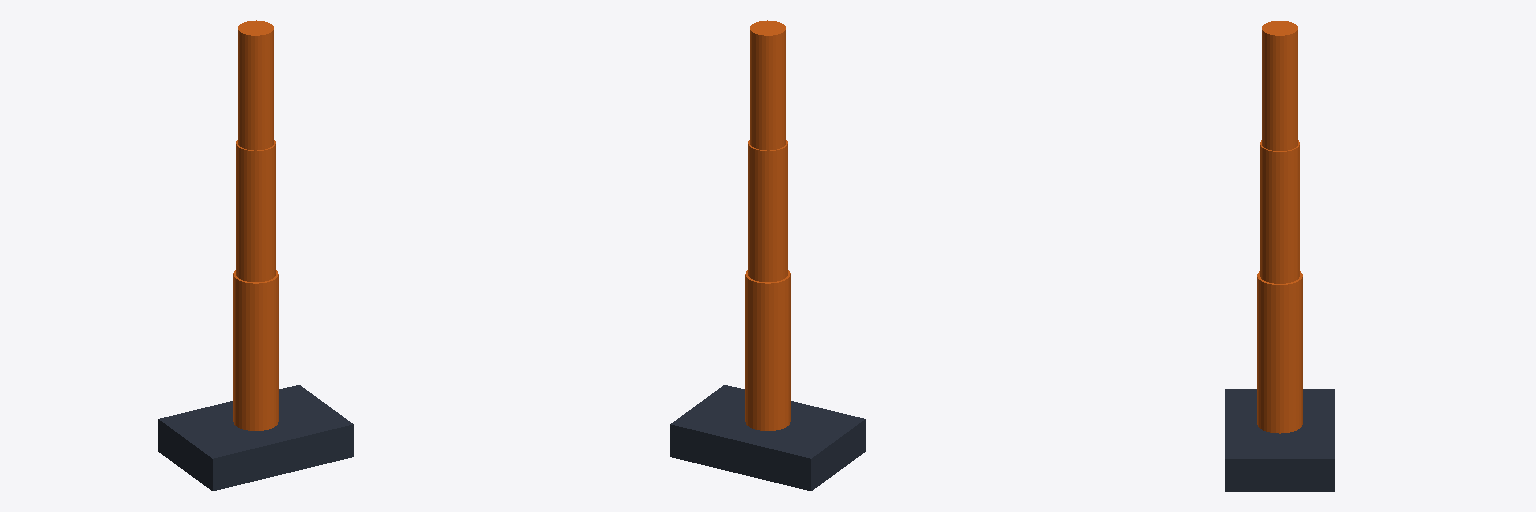
The robot description file, URDF, robot "mab_three_axis_rehab_robot":
<?xml version="1.0" ?>
<!-- =================================================================================== -->
<!-- |    This document was autogenerated by xacro from mab_ros2_control/urdf/mab_three_axis.urdf.xacro | -->
<!-- |    EDITING THIS FILE BY HAND IS NOT RECOMMENDED                                 | -->
<!-- =================================================================================== -->
<robot name="mab_three_axis_rehab_robot">
  <material name="carbon">
    <color rgba="0.22 0.25 0.30 1.0"/>
  </material>
  <material name="signal">
    <color rgba="0.85 0.43 0.14 1.0"/>
  </material>
  <link name="base_link">
    <visual>
      <geometry>
        <box size="0.18 0.12 0.04"/>
      </geometry>
      <material name="carbon"/>
    </visual>
    <collision>
      <geometry>
        <box size="0.18 0.12 0.04"/>
      </geometry>
    </collision>
    <inertial>
      <mass value="1.0"/>
      <origin xyz="0 0 0"/>
      <inertia ixx="0.01" ixy="0.0" ixz="0.0" iyy="0.01" iyz="0.0" izz="0.01"/>
    </inertial>
  </link>
  <link name="link_1">
    <visual>
      <geometry>
        <cylinder length="0.18" radius="0.025"/>
      </geometry>
      <origin rpy="0 0 0" xyz="0 0 0.09"/>
      <material name="signal"/>
    </visual>
    <collision>
      <geometry>
        <cylinder length="0.18" radius="0.025"/>
      </geometry>
      <origin rpy="0 0 0" xyz="0 0 0.09"/>
    </collision>
    <inertial>
      <mass value="0.4"/>
      <origin xyz="0 0 0.09"/>
      <inertia ixx="0.002" ixy="0.0" ixz="0.0" iyy="0.002" iyz="0.0" izz="0.001"/>
    </inertial>
  </link>
  <link name="link_2">
    <visual>
      <geometry>
        <cylinder length="0.16" radius="0.022"/>
      </geometry>
      <origin rpy="0 0 0" xyz="0 0 0.08"/>
      <material name="signal"/>
    </visual>
    <collision>
      <geometry>
        <cylinder length="0.16" radius="0.022"/>
      </geometry>
      <origin rpy="0 0 0" xyz="0 0 0.08"/>
    </collision>
    <inertial>
      <mass value="0.3"/>
      <origin xyz="0 0 0.08"/>
      <inertia ixx="0.0016" ixy="0.0" ixz="0.0" iyy="0.0016" iyz="0.0" izz="0.0008"/>
    </inertial>
  </link>
  <link name="link_3">
    <visual>
      <geometry>
        <cylinder length="0.14" radius="0.02"/>
      </geometry>
      <origin rpy="0 0 0" xyz="0 0 0.07"/>
      <material name="signal"/>
    </visual>
    <collision>
      <geometry>
        <cylinder length="0.14" radius="0.02"/>
      </geometry>
      <origin rpy="0 0 0" xyz="0 0 0.07"/>
    </collision>
    <inertial>
      <mass value="0.25"/>
      <origin xyz="0 0 0.07"/>
      <inertia ixx="0.0012" ixy="0.0" ixz="0.0" iyy="0.0012" iyz="0.0" izz="0.0006"/>
    </inertial>
  </link>
  <joint name="joint_1" type="revolute">
    <parent link="base_link"/>
    <child link="link_1"/>
    <origin rpy="0 0 0" xyz="0 0 0.02"/>
    <axis xyz="0 0 1"/>
    <limit effort="40.0" lower="-6.283" upper="6.283" velocity="20.0"/>
  </joint>
  <joint name="joint_2" type="revolute">
    <parent link="link_1"/>
    <child link="link_2"/>
    <origin rpy="0 0 0" xyz="0 0 0.18"/>
    <axis xyz="0 1 0"/>
    <limit effort="40.0" lower="-6.283" upper="6.283" velocity="20.0"/>
  </joint>
  <joint name="joint_3" type="revolute">
    <parent link="link_2"/>
    <child link="link_3"/>
    <origin rpy="0 0 0" xyz="0 0 0.16"/>
    <axis xyz="0 1 0"/>
    <limit effort="40.0" lower="-6.283" upper="6.283" velocity="20.0"/>
  </joint>
  <ros2_control name="mab_hardware" type="system">
    <hardware>
      <plugin>mab_ros2_control/MABSystemHardware</plugin>
      <param name="bus">SPI</param>
      <param name="data_rate">5M</param>
      <param name="use_pds">true</param>
      <param name="use_regular_can_frames">false</param>
      <param name="pds_id">100</param>
      <param name="power_stage_socket">2</param>
      <param name="fast_mode">false</param>
      <param name="auto_enable_power_stage">true</param>
      <param name="disable_power_stage_on_deactivate">false</param>
      <param name="zero_on_activate">false</param>
      <param name="allow_no_connected_drives">true</param>
      <param name="save_md_configuration_to_flash">false</param>
      <param name="hold_position_on_activate_ms">3000</param>
      <param name="maintenance_reload_enabled">true</param>
      <param name="maintenance_restore_controller">previous</param>
      <param name="maintenance_service_timeout_ms">3000</param>
      <param name="md_torque_bandwidth_hz">1000.0</param>
      <param name="md_can_watchdog_ms">nan</param>
      <param name="md_limit_max_torque">40.0</param>
      <param name="md_limit_max_velocity">20.0</param>
      <param name="md_limit_max_acceleration">60.0</param>
      <param name="md_limit_max_deceleration">60.0</param>
      <param name="md_limit_position_min">-100</param>
      <param name="md_limit_position_max">100</param>
      <param name="md_profile_velocity">12.0</param>
      <param name="md_profile_acceleration">30.0</param>
      <param name="md_profile_deceleration">30.0</param>
      <param name="md_profile_quick_stop_deceleration">50.0</param>
      <param name="md_position_pid_kp">10.5</param>
      <param name="md_position_pid_ki">1.5</param>
      <param name="md_position_pid_kd">0.0</param>
      <param name="md_position_pid_windup">1.0</param>
      <param name="md_velocity_pid_kp">0.1</param>
      <param name="md_velocity_pid_ki">0.0005</param>
      <param name="md_velocity_pid_kd">0.0</param>
      <param name="md_velocity_pid_windup">0.25</param>
      <param name="md_impedance_kp">0.75</param>
      <param name="md_impedance_kd">0.02</param>
    </hardware>
    <joint name="joint_1">
      <!-- Joint 1 uses MD0037 with an MA-p-45-36_KV80 motor and an external 38:1 reduction. -->
      <param name="can_id">37</param>
      <param name="motor_name">MA-p-45-36_KV80</param>
      <param name="gear_ratio">0.02631578947368421</param>
      <param name="pole_pairs">14</param>
      <param name="kv">80</param>
      <param name="torque_constant">0.11</param>
      <param name="max_current">15.0</param>
      <param name="torque_bandwidth_hz">1000.0</param>
      <param name="friction">0.0</param>
      <param name="stiction">0.0</param>
      <param name="motor_calibration_mode">0</param>
      <param name="shutdown_temp">80.0</param>
      <param name="limit_max_torque">40.0</param>
      <param name="limit_max_velocity">20.0</param>
      <param name="limit_position_min">-100</param>
      <param name="limit_position_max">100</param>
      <param name="limit_max_acceleration">60.0</param>
      <param name="limit_max_deceleration">60.0</param>
      <param name="profile_velocity">12.0</param>
      <param name="profile_acceleration">30.0</param>
      <param name="profile_deceleration">30.0</param>
      <param name="profile_quick_stop_deceleration">50.0</param>
      <param name="output_encoder">0</param>
      <param name="output_encoder_default_baud">0</param>
      <param name="output_encoder_mode">0</param>
      <param name="output_encoder_calibration_mode">0</param>
      <param name="position_pid_kp">10.5</param>
      <param name="position_pid_ki">1.5</param>
      <param name="position_pid_kd">0.0</param>
      <param name="position_pid_windup">1.0</param>
      <param name="velocity_pid_kp">0.1</param>
      <param name="velocity_pid_ki">0.0005</param>
      <param name="velocity_pid_kd">0.0</param>
      <param name="velocity_pid_windup">0.25</param>
      <param name="impedance_kp">0.5</param>
      <param name="impedance_kd">0.3</param>
      <param name="user_gpio_configuration">0</param>
      <param name="reverse_direction">0</param>
      <param name="shunt_resistance">0.004</param>
      <command_interface name="position"/>
      <command_interface name="velocity"/>
      <command_interface name="effort"/>
      <state_interface name="position"/>
      <state_interface name="velocity"/>
      <state_interface name="effort"/>
      <state_interface name="voltage"/>

    </joint>
    <joint name="joint_2">
      <!-- Joint 2 uses MD0939 with an MA-p-40_10_K170 motor and an external 10:1 reduction. -->
      <param name="can_id">940</param>
      <param name="motor_name">MA-p-40_10_K170</param>
      <param name="gear_ratio">0.1</param>
      <param name="pole_pairs">14</param>
      <param name="kv">170</param>
      <param name="torque_constant">0.056</param>
      <param name="max_current">15.0</param>
      <param name="torque_bandwidth_hz">1000.0</param>
      <param name="friction">0.0</param>
      <param name="stiction">0.0</param>
      <param name="motor_calibration_mode">0</param>
      <param name="shutdown_temp">80.0</param>
      <param name="limit_max_torque">40.0</param>
      <param name="limit_max_velocity">20.0</param>
      <param name="limit_position_min">-100</param>
      <param name="limit_position_max">100</param>
      <param name="limit_max_acceleration">60.0</param>
      <param name="limit_max_deceleration">60.0</param>
      <param name="profile_velocity">12.0</param>
      <param name="profile_acceleration">30.0</param>
      <param name="profile_deceleration">30.0</param>
      <param name="profile_quick_stop_deceleration">50.0</param>
      <param name="output_encoder">0</param>
      <param name="output_encoder_default_baud">0</param>
      <param name="output_encoder_mode">0</param>
      <param name="output_encoder_calibration_mode">0</param>
      <param name="position_pid_kp">3.5</param>
      <param name="position_pid_ki">0.5</param>
      <param name="position_pid_kd">0.0</param>
      <param name="position_pid_windup">1.0</param>
      <param name="velocity_pid_kp">0.6</param>
      <param name="velocity_pid_ki">0.0005</param>
      <param name="velocity_pid_kd">0.0</param>
      <param name="velocity_pid_windup">0.25</param>
      <param name="impedance_kp">0.0</param>
      <param name="impedance_kd">0.0</param>
      <param name="user_gpio_configuration">0</param>
      <param name="reverse_direction">0</param>
      <param name="shunt_resistance">0.004</param>
      <command_interface name="position"/>
      <command_interface name="velocity"/>
      <command_interface name="effort"/>
      <state_interface name="position"/>
      <state_interface name="velocity"/>
      <state_interface name="effort"/>
      <state_interface name="voltage"/>
    </joint>
    <joint name="joint_3">
      <!-- Joint 3 uses MD0941 with an MA-p-40_10_K170 motor and an external 10:1 reduction. -->
      <param name="can_id">941</param>
      <param name="motor_name">MA-p-40_10_K170</param>
      <param name="gear_ratio">0.1</param>
      <param name="pole_pairs">14</param>
      <param name="kv">170</param>
      <param name="torque_constant">0.056</param>
      <param name="max_current">15.0</param>
      <param name="torque_bandwidth_hz">1000.0</param>
      <param name="friction">0.0</param>
      <param name="stiction">0.0</param>
      <param name="motor_calibration_mode">0</param>
      <param name="shutdown_temp">80.0</param>
      <param name="limit_max_torque">40.0</param>
      <param name="limit_max_velocity">20.0</param>
      <param name="limit_position_min">-600</param>
      <param name="limit_position_max">600</param>
      <param name="limit_max_acceleration">60.0</param>
      <param name="limit_max_deceleration">60.0</param>
      <param name="profile_velocity">12.0</param>
      <param name="profile_acceleration">30.0</param>
      <param name="profile_deceleration">30.0</param>
      <param name="profile_quick_stop_deceleration">50.0</param>
      <param name="output_encoder">0</param>
      <param name="output_encoder_default_baud">0</param>
      <param name="output_encoder_mode">0</param>
      <param name="output_encoder_calibration_mode">0</param>
      <param name="position_pid_kp">3.5</param>
      <param name="position_pid_ki">0.5</param>
      <param name="position_pid_kd">0.0</param>
      <param name="position_pid_windup">1.0</param>
      <param name="velocity_pid_kp">0.6</param>
      <param name="velocity_pid_ki">0.0005</param>
      <param name="velocity_pid_kd">0.0</param>
      <param name="velocity_pid_windup">0.25</param>
      <param name="impedance_kp">0.0</param>
      <param name="impedance_kd">0.0</param>
      <param name="user_gpio_configuration">0</param>
      <param name="reverse_direction">0</param>
      <param name="shunt_resistance">0.004</param>
      <command_interface name="position"/>
      <command_interface name="velocity"/>
      <command_interface name="effort"/>
      <state_interface name="position"/>
      <state_interface name="velocity"/>
      <state_interface name="effort"/>
      <state_interface name="voltage"/>
    </joint>
    <sensor name="mab_power_stage">
      <state_interface name="bus_voltage"/>
    </sensor>
  </ros2_control>
</robot>

--- What the picture shows (computed from the rendered views, not written in the file) ---
Views: 3 orthographic renders of the robot side by side, from view 1: azimuth 30°, elevation 25°; view 2: azimuth 150°, elevation 25°; view 3: azimuth 270°, elevation 25°.
Robot: mab_three_axis_rehab_robot — 4 links, 3 joints (3 revolute); root link base_link; default pose: all joints at 0.
Visible links, largest first — view 1: base_link, link_1, link_2, link_3; view 2: base_link, link_1, link_2, link_3; view 3: base_link, link_1, link_2, link_3.
Boxes of the visible links, box(x1,y1,x2,y2) form: base_link: box(158, 385, 353, 490); link_1: box(233, 270, 278, 430); link_2: box(236, 140, 275, 281); link_3: box(238, 20, 273, 150); base_link: box(670, 385, 865, 490); link_1: box(745, 270, 790, 430); link_2: box(748, 140, 787, 281); link_3: box(750, 20, 785, 150); base_link: box(1225, 389, 1334, 491); link_1: box(1257, 271, 1302, 433); link_2: box(1260, 140, 1299, 283); link_3: box(1262, 21, 1297, 150).
Bounding box of the posed robot: 0.18 × 0.12 × 0.52 m (x, y, z).
Geometry: primitives only (box / cylinder / sphere), no mesh files.
